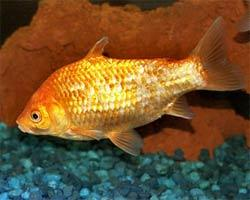Gold Fish: (17, 15, 246, 157)
